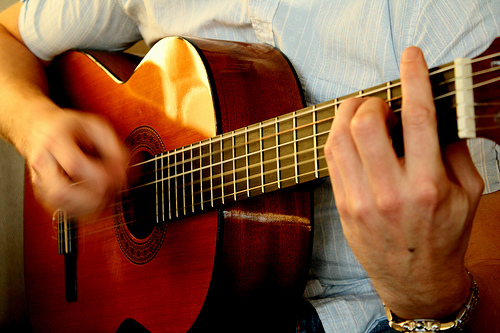guitar: (21, 33, 500, 333)
